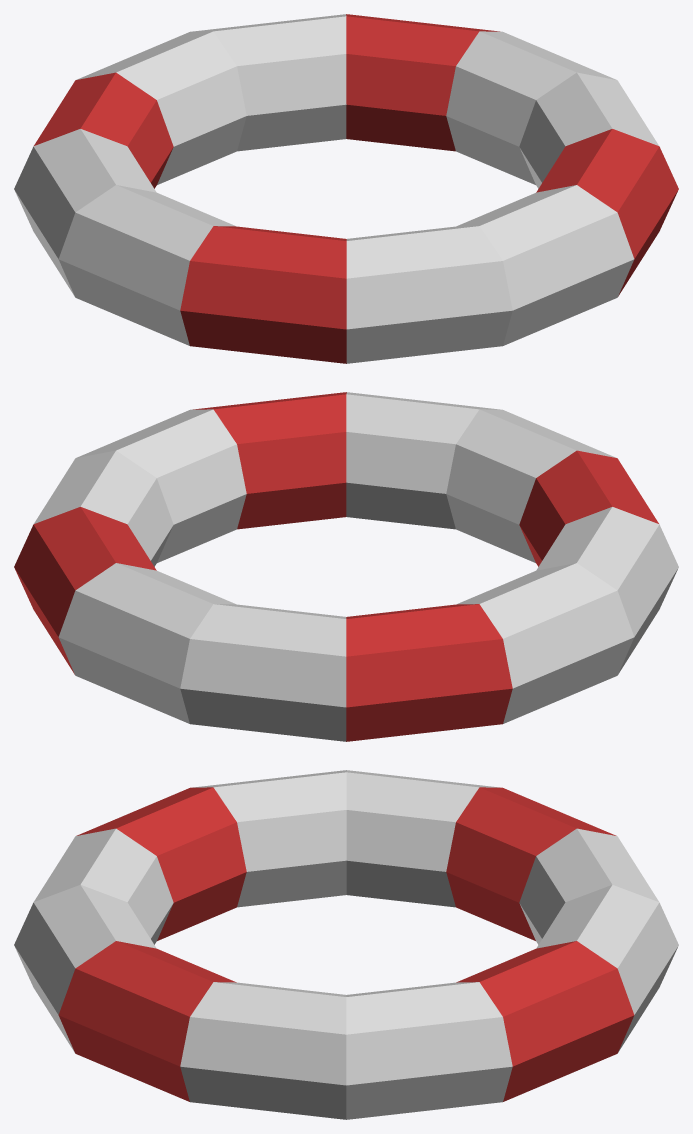
File: lifebelt.gltf
3 renders of one model, top to bottom at view 1: azimuth 30°, elevation 25°; view 2: azimuth 150°, elevation 25°; view 3: azimuth 270°, elevation 25°, orthographic.
Parts seen in each view (by area): view 1: Torus; view 2: Torus; view 3: Torus.
Part boxes in pixels (x1,y1,x2,y2): Torus: [14, 14, 678, 363]; Torus: [14, 392, 678, 741]; Torus: [14, 770, 678, 1119].
Size of the model in its own units: 2.5 by 0.5 by 2.5.
